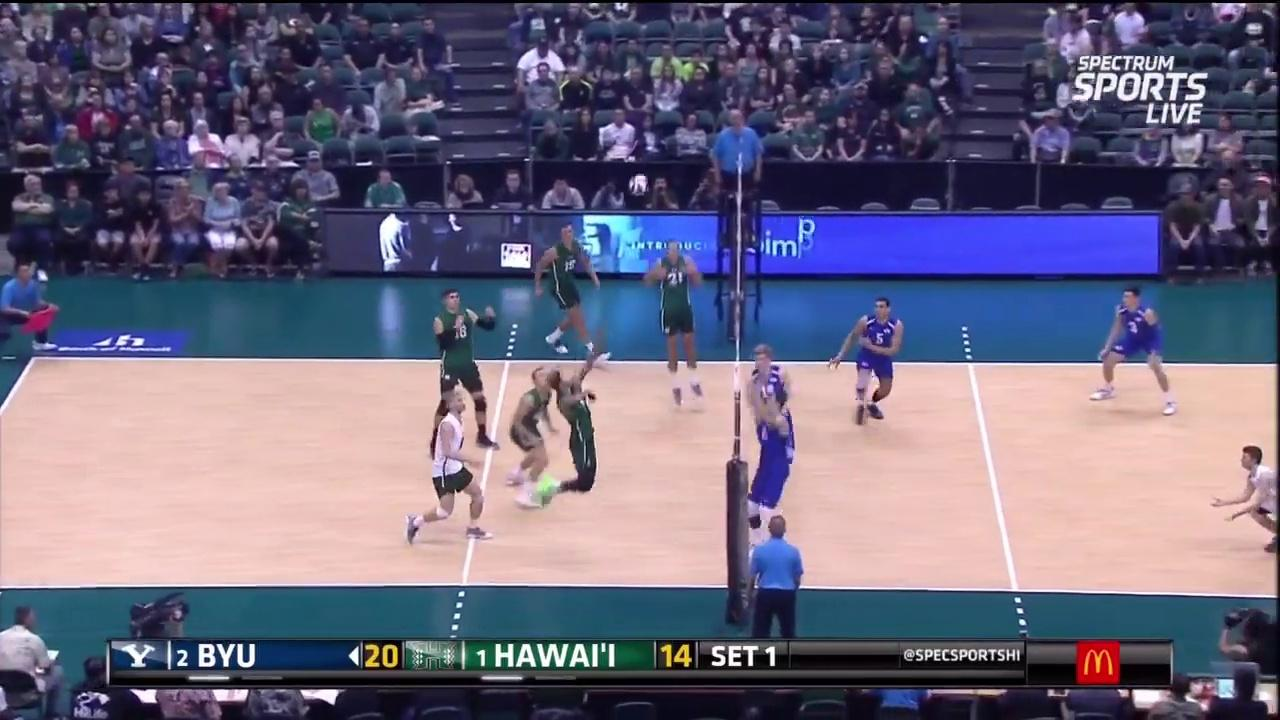player: (642, 228, 717, 420), (409, 388, 496, 536), (428, 291, 499, 456), (534, 214, 611, 364), (544, 352, 610, 520), (1093, 290, 1181, 409), (506, 359, 575, 506), (828, 300, 907, 425), (1206, 436, 1280, 551), (747, 336, 795, 511), (749, 381, 795, 552)
refree: (746, 516, 807, 643), (711, 104, 766, 244), (0, 259, 68, 366)
